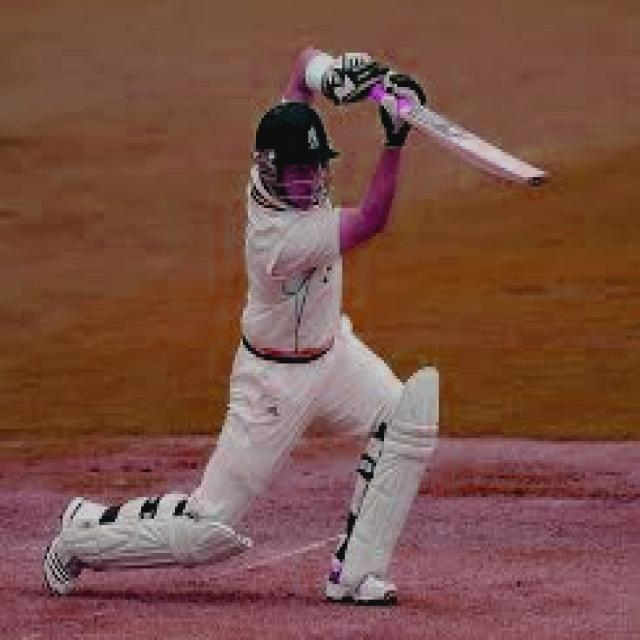bat: (400, 101, 556, 192)
toe: (525, 172, 554, 190)
